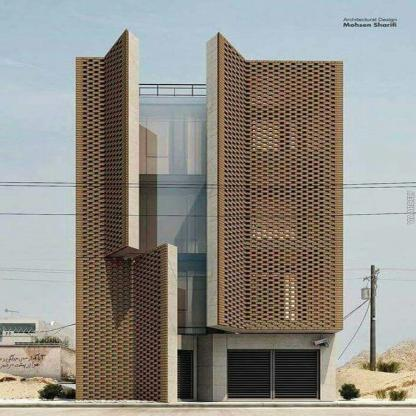Balcony: (129, 83, 207, 96)
Building Outline: (74, 28, 344, 403)
Door: (227, 350, 320, 400), (170, 349, 193, 400)
Facade: (74, 28, 345, 403)
Floor Slab: (75, 327, 344, 335), (75, 98, 344, 106), (75, 175, 344, 183), (75, 254, 344, 262)
Glass Wall: (129, 97, 307, 333)
